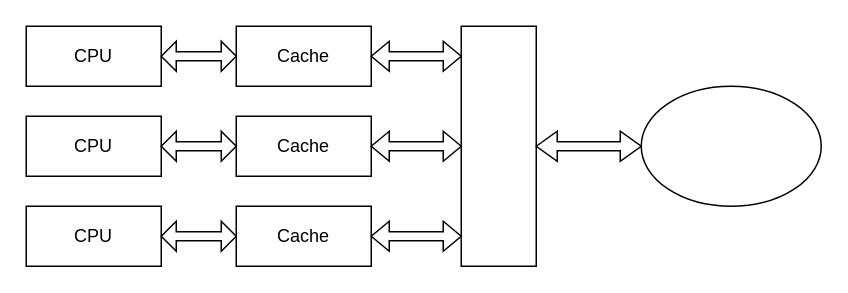
The diagram is 848 pixels wide and 293 high, and some of its shapes have lost their labels. The box of each missing label's shape, as (x1, y1, x2, y2) in pixels:
主存: (640, 85, 821, 206)
缓存一致性协议: (460, 25, 536, 266)
